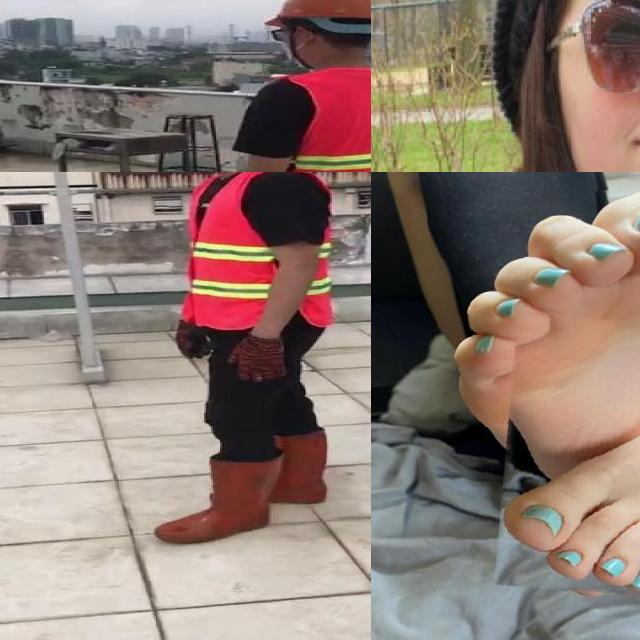Barefoots: (485, 182, 640, 503), (473, 394, 640, 608)
boots: (152, 457, 272, 544), (268, 432, 325, 505)
face_nomask: (573, 0, 640, 172)
glasses: (566, 0, 640, 98)
head_helmet: (257, 0, 371, 23)
person: (142, 172, 343, 551), (371, 0, 640, 172), (198, 0, 371, 172)
vest: (181, 172, 341, 327), (264, 69, 371, 172)
